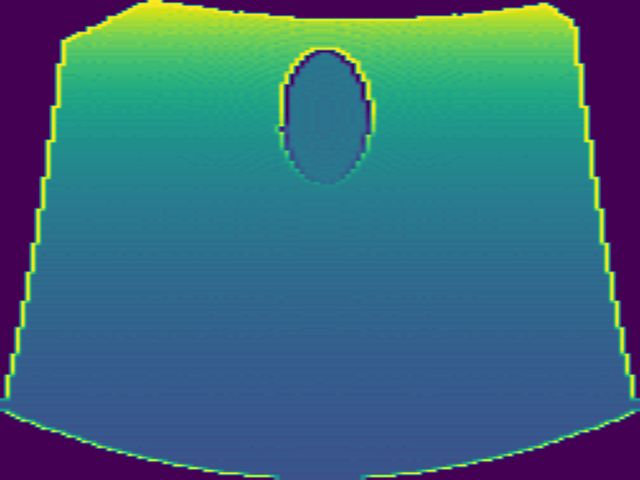sphere: (276, 45, 375, 187)
